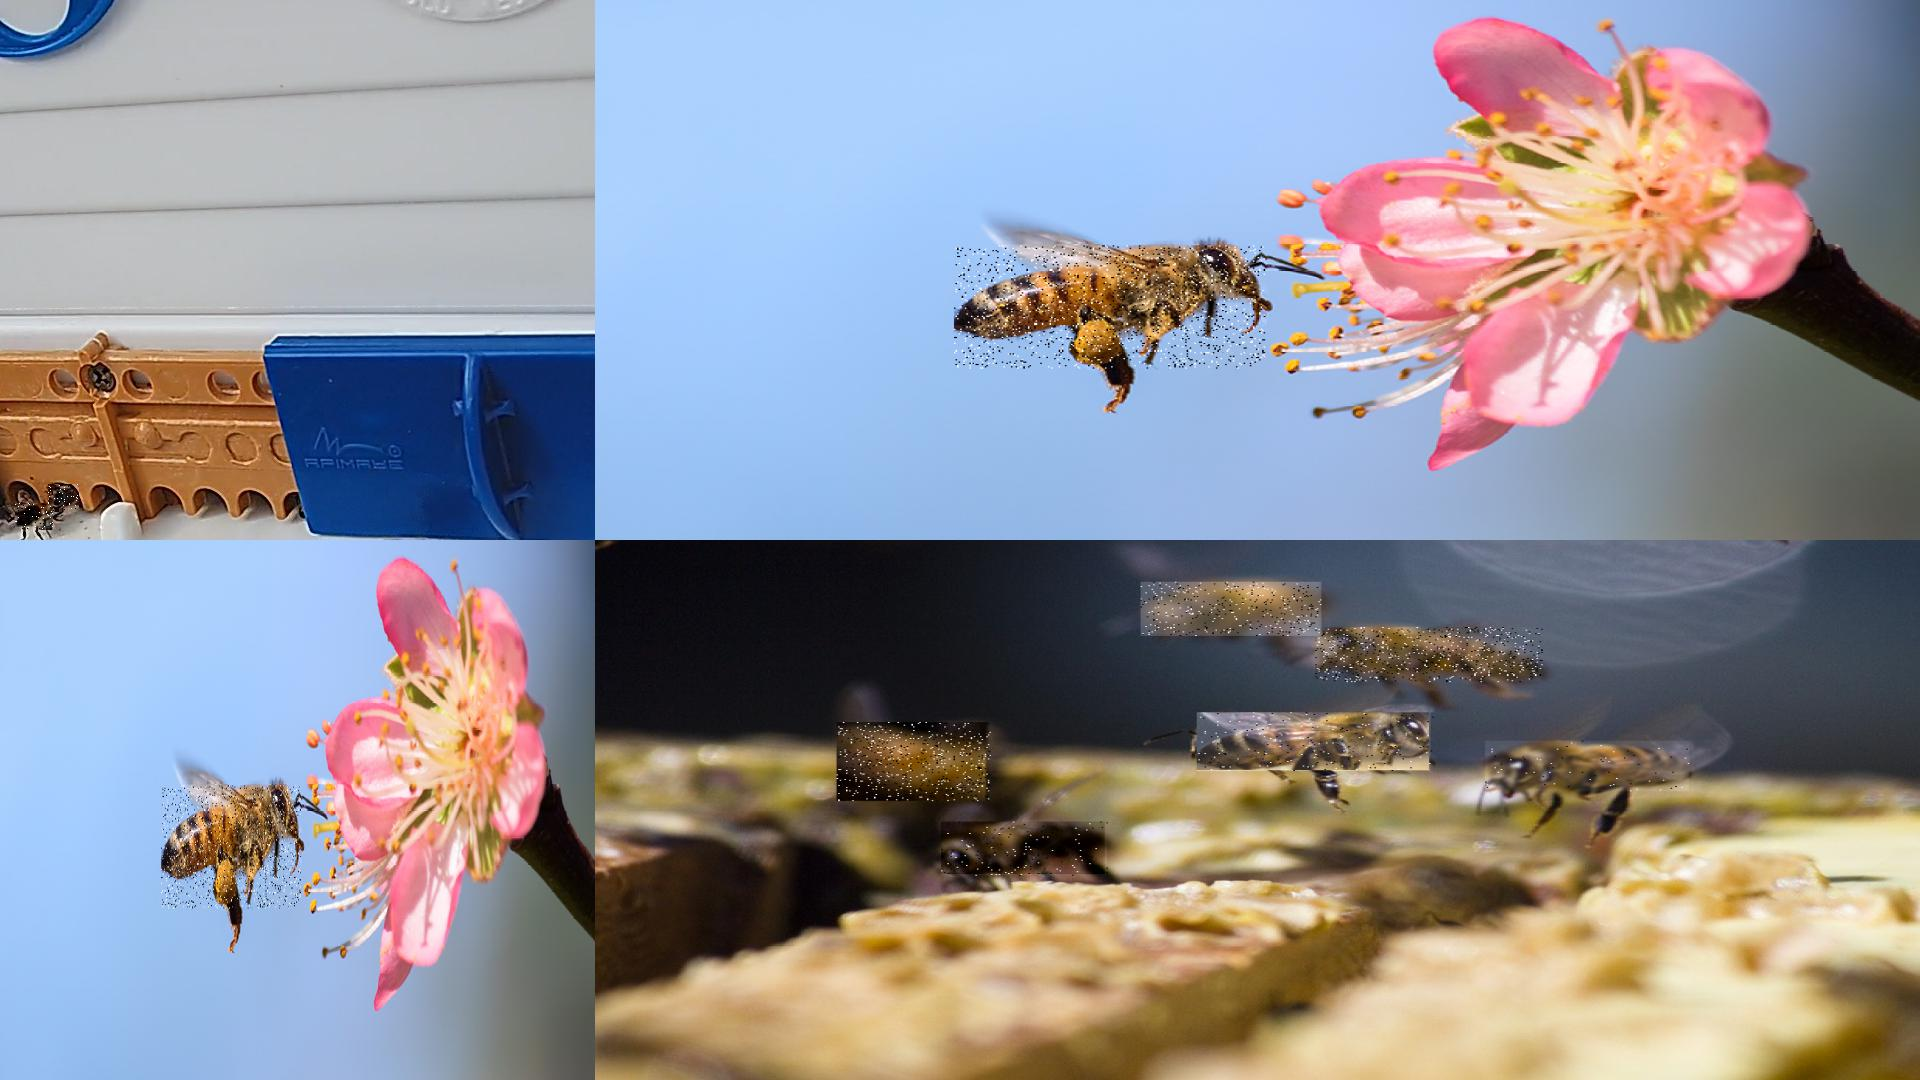bee: (1197, 713, 1436, 774), (1316, 628, 1545, 684), (837, 723, 994, 802), (1485, 741, 1691, 793), (1141, 582, 1323, 637), (943, 822, 1110, 877), (16, 504, 54, 530), (49, 485, 80, 513), (0, 508, 11, 533)
pollenbee: (955, 247, 1267, 371), (162, 786, 302, 911)
